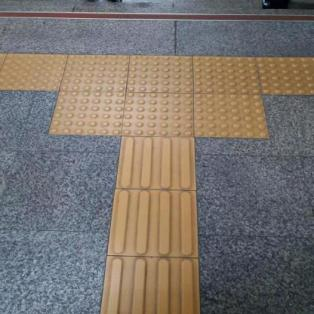Podoctatil: (100, 138, 199, 314), (51, 90, 270, 140), (0, 57, 313, 89)
